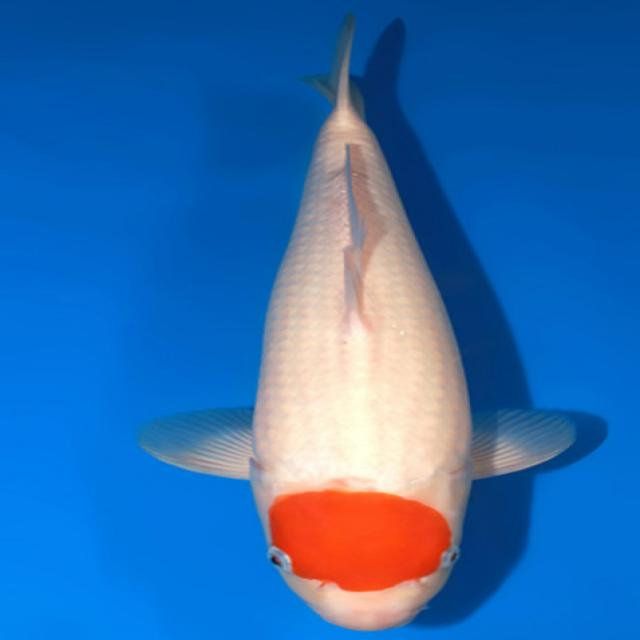Kohaku: (136, 11, 578, 631)
